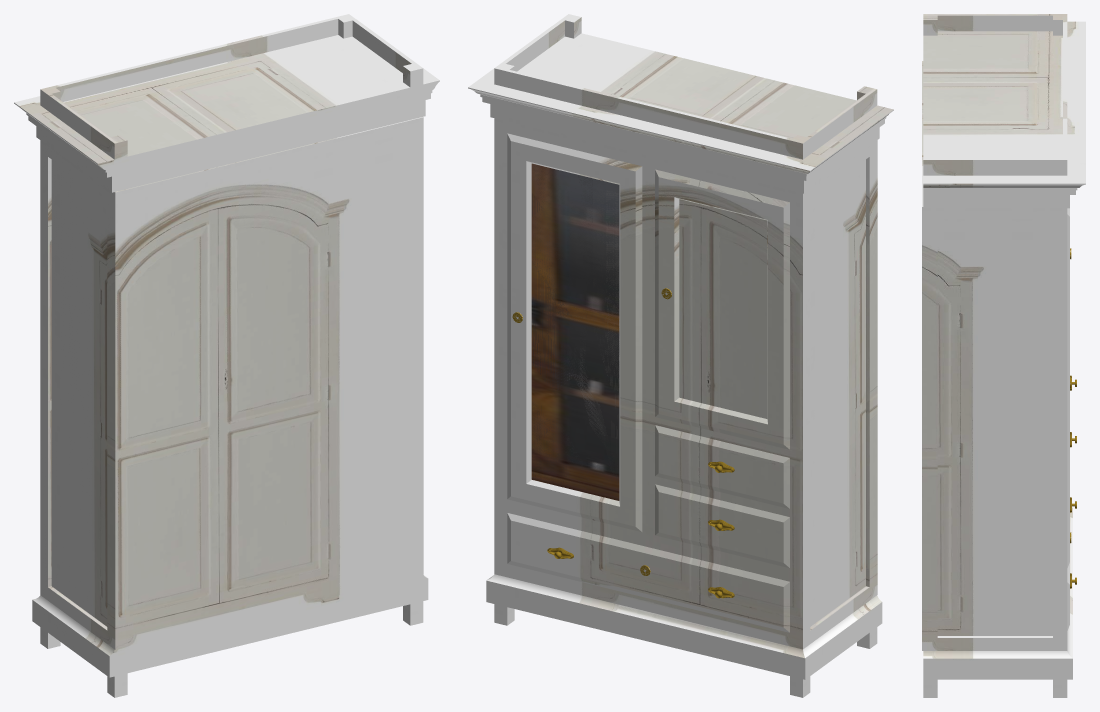
The picture shows the model from 3 angles, left to right: view 1: azimuth 30°, elevation 25°; view 2: azimuth 150°, elevation 25°; view 3: azimuth 270°, elevation 25°; orthographic projection. The views are drawn at different scales.
Visible parts, largest first — view 1: mesh5_mesh5-geometry; view 2: mesh5_mesh5-geometry, mesh1_mesh1-geometry; view 3: mesh5_mesh5-geometry.
Boxes of the visible parts, left/top/right/bottom form: mesh5_mesh5-geometry: left=14, top=14, right=439, bottom=697; mesh5_mesh5-geometry: left=468, top=14, right=893, bottom=697; mesh1_mesh1-geometry: left=547, top=461, right=734, bottom=598; mesh5_mesh5-geometry: left=922, top=14, right=1085, bottom=697.
Bounding box in the file's own units: 0.5284 × 0.8184 × 0.226.
